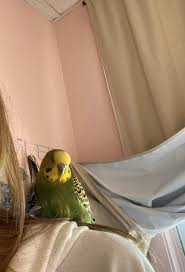budgie: (36, 148, 94, 224)
